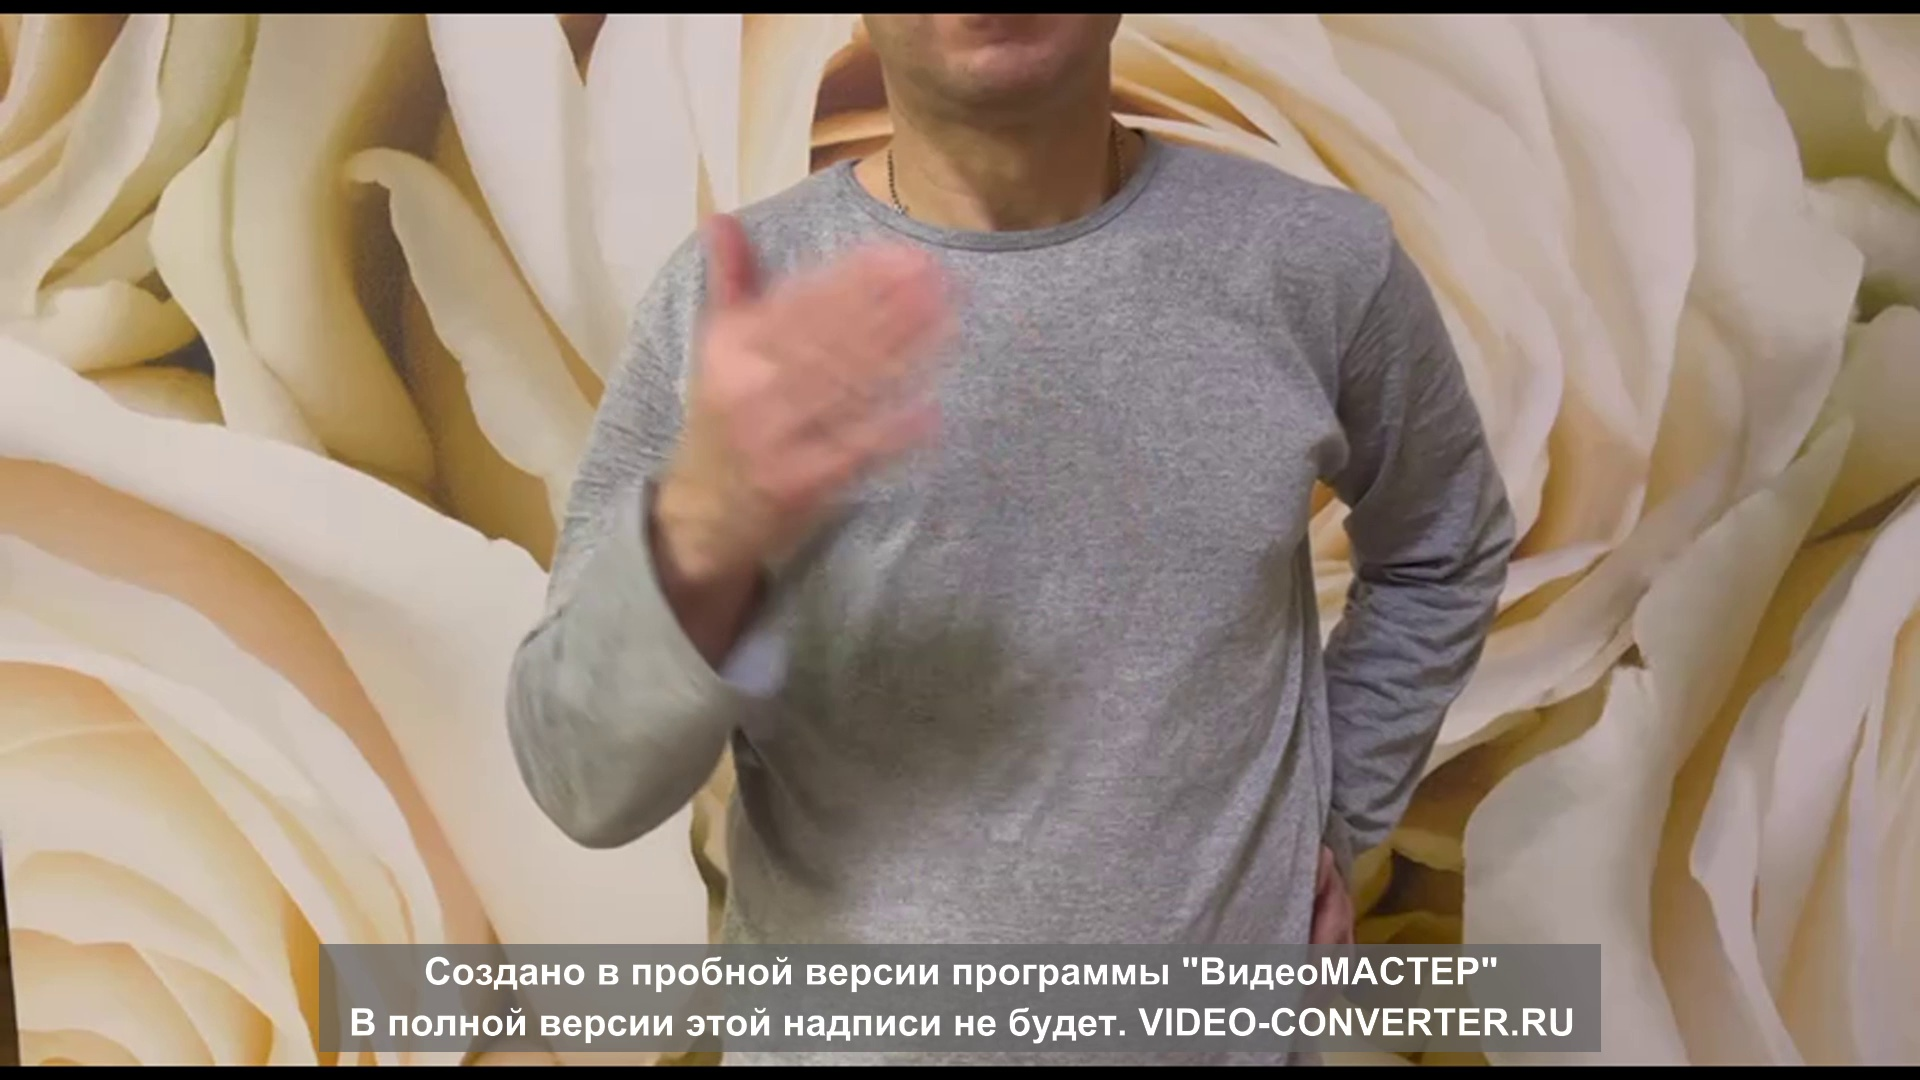Кисть: (665, 212, 955, 564)
